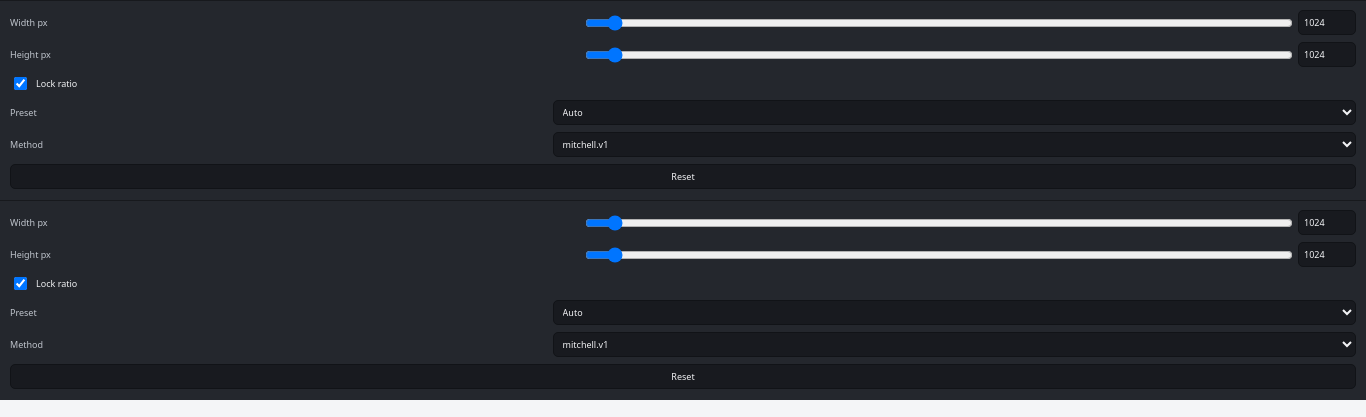
Test case: node widget schema › keeps node and inspector hosts on one authored field
Replace the text in the 1st number field named "Resize Width" with "512": (1327, 22) [1298, 10, 1356, 35]
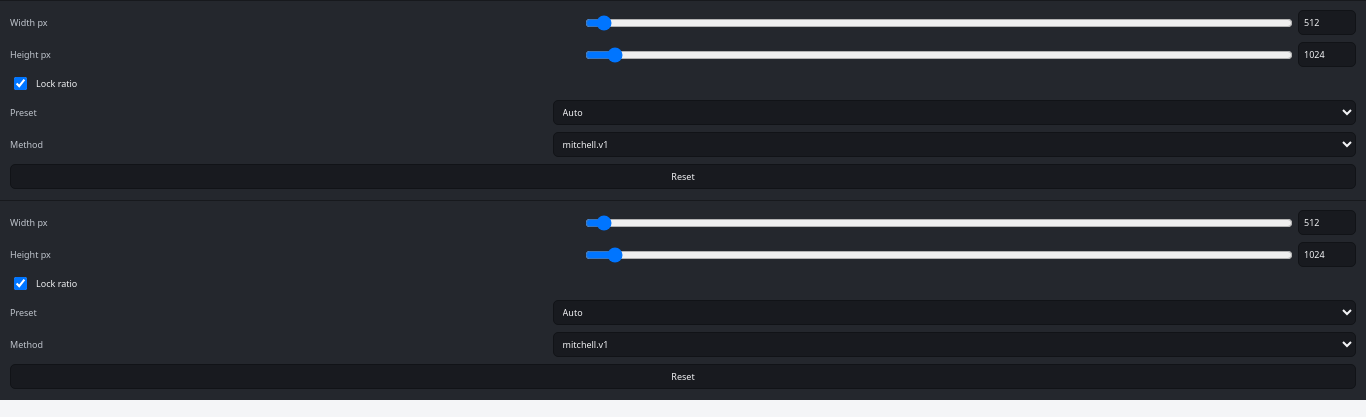
Check: the 2nd number field named "Resize Width" holds "512", box [1298, 210, 1356, 235]
